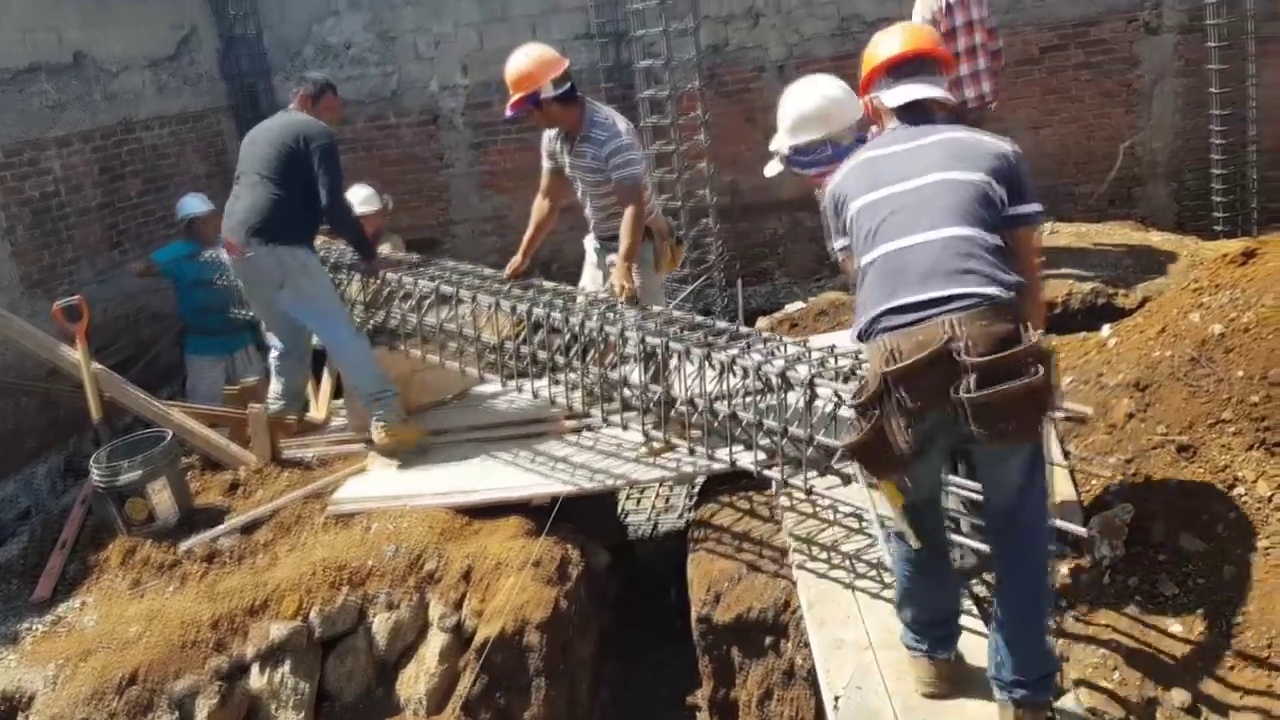helmet: (860, 16, 958, 99), (772, 69, 868, 152), (499, 41, 569, 114), (173, 191, 217, 227), (345, 183, 389, 217)
helmet-off: (282, 71, 344, 129)
helmet-on: (763, 64, 872, 192), (859, 14, 962, 132), (498, 37, 594, 145), (172, 191, 218, 244), (341, 183, 388, 229)
person: (814, 17, 1082, 711), (222, 64, 408, 464), (494, 40, 670, 311), (145, 181, 250, 415), (913, 0, 1008, 139), (342, 180, 408, 260)
